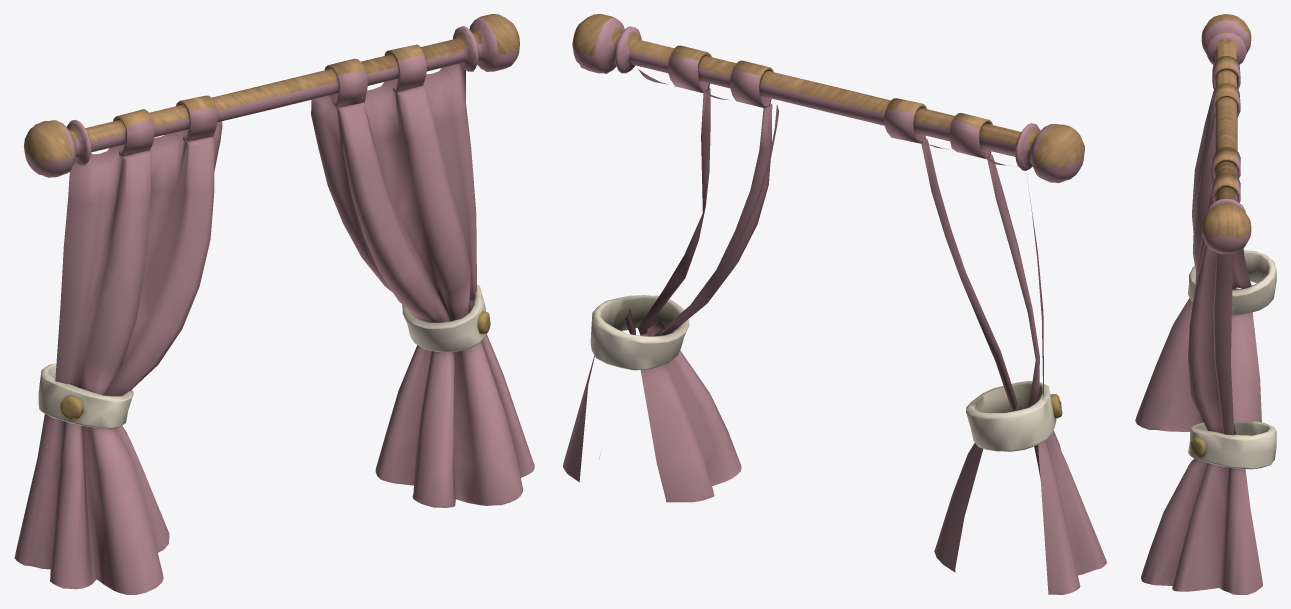
The model's file is curtains.glb.
The picture shows the model from 3 angles, left to right: view 1: azimuth 30°, elevation 25°; view 2: azimuth 150°, elevation 25°; view 3: azimuth 270°, elevation 25°; orthographic projection. The views are drawn at different scales.
Visible parts, largest first — view 1: curtains; view 2: curtains; view 3: curtains.
Boxes of the visible parts, left/top/right/bottom form: curtains: left=14, top=14, right=534, bottom=594; curtains: left=563, top=14, right=1106, bottom=594; curtains: left=1135, top=14, right=1276, bottom=594.
Size of the model in its own units: 0.998 by 0.8691 by 0.2832.
Materials: 1 (1 with a texture image).
